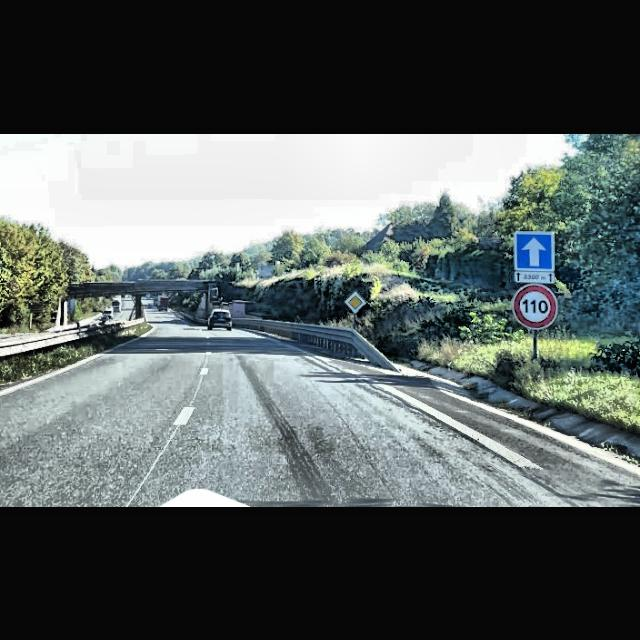speed_110: (514, 284, 558, 328)
